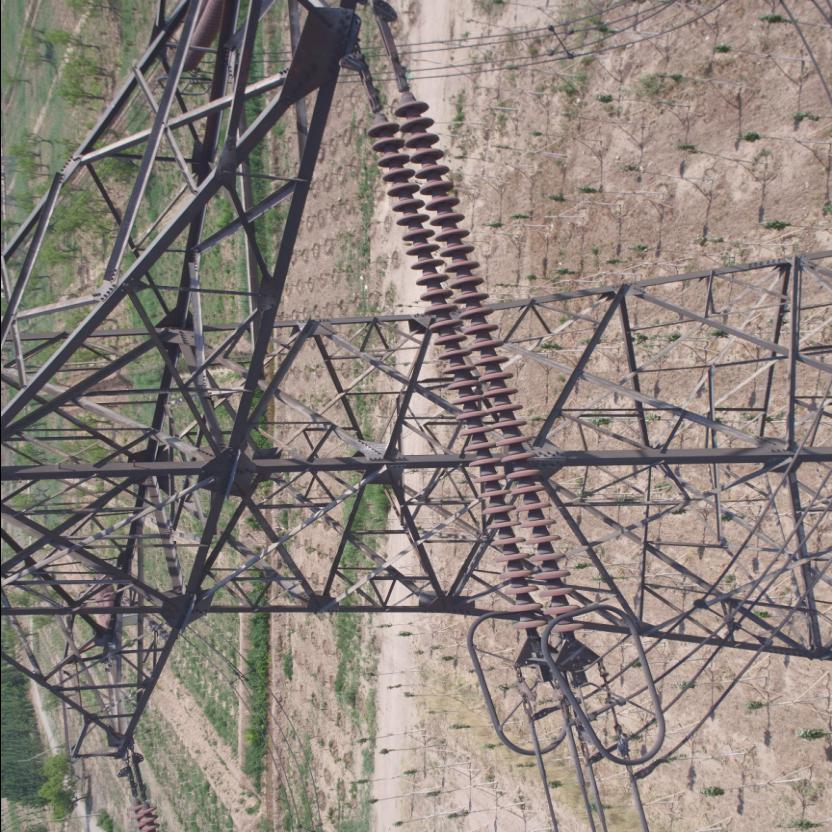insulator: (360, 77, 586, 653)
